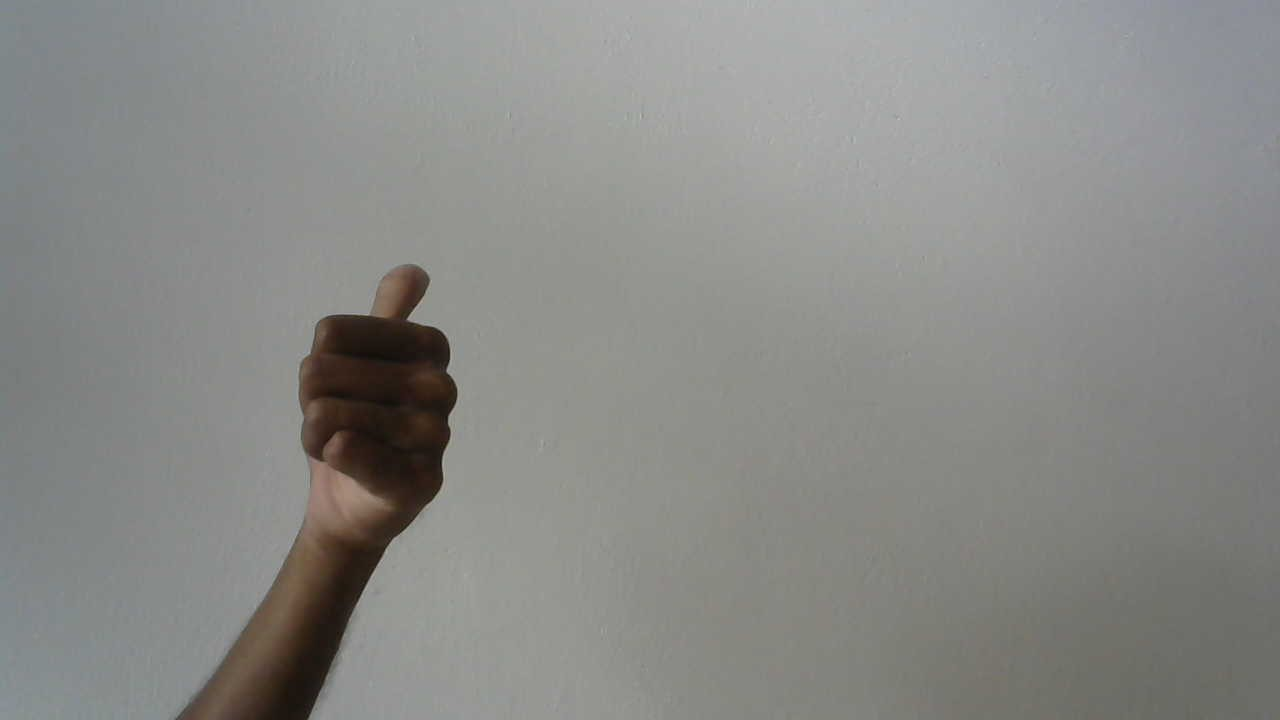thumbsup: (285, 250, 470, 543)
